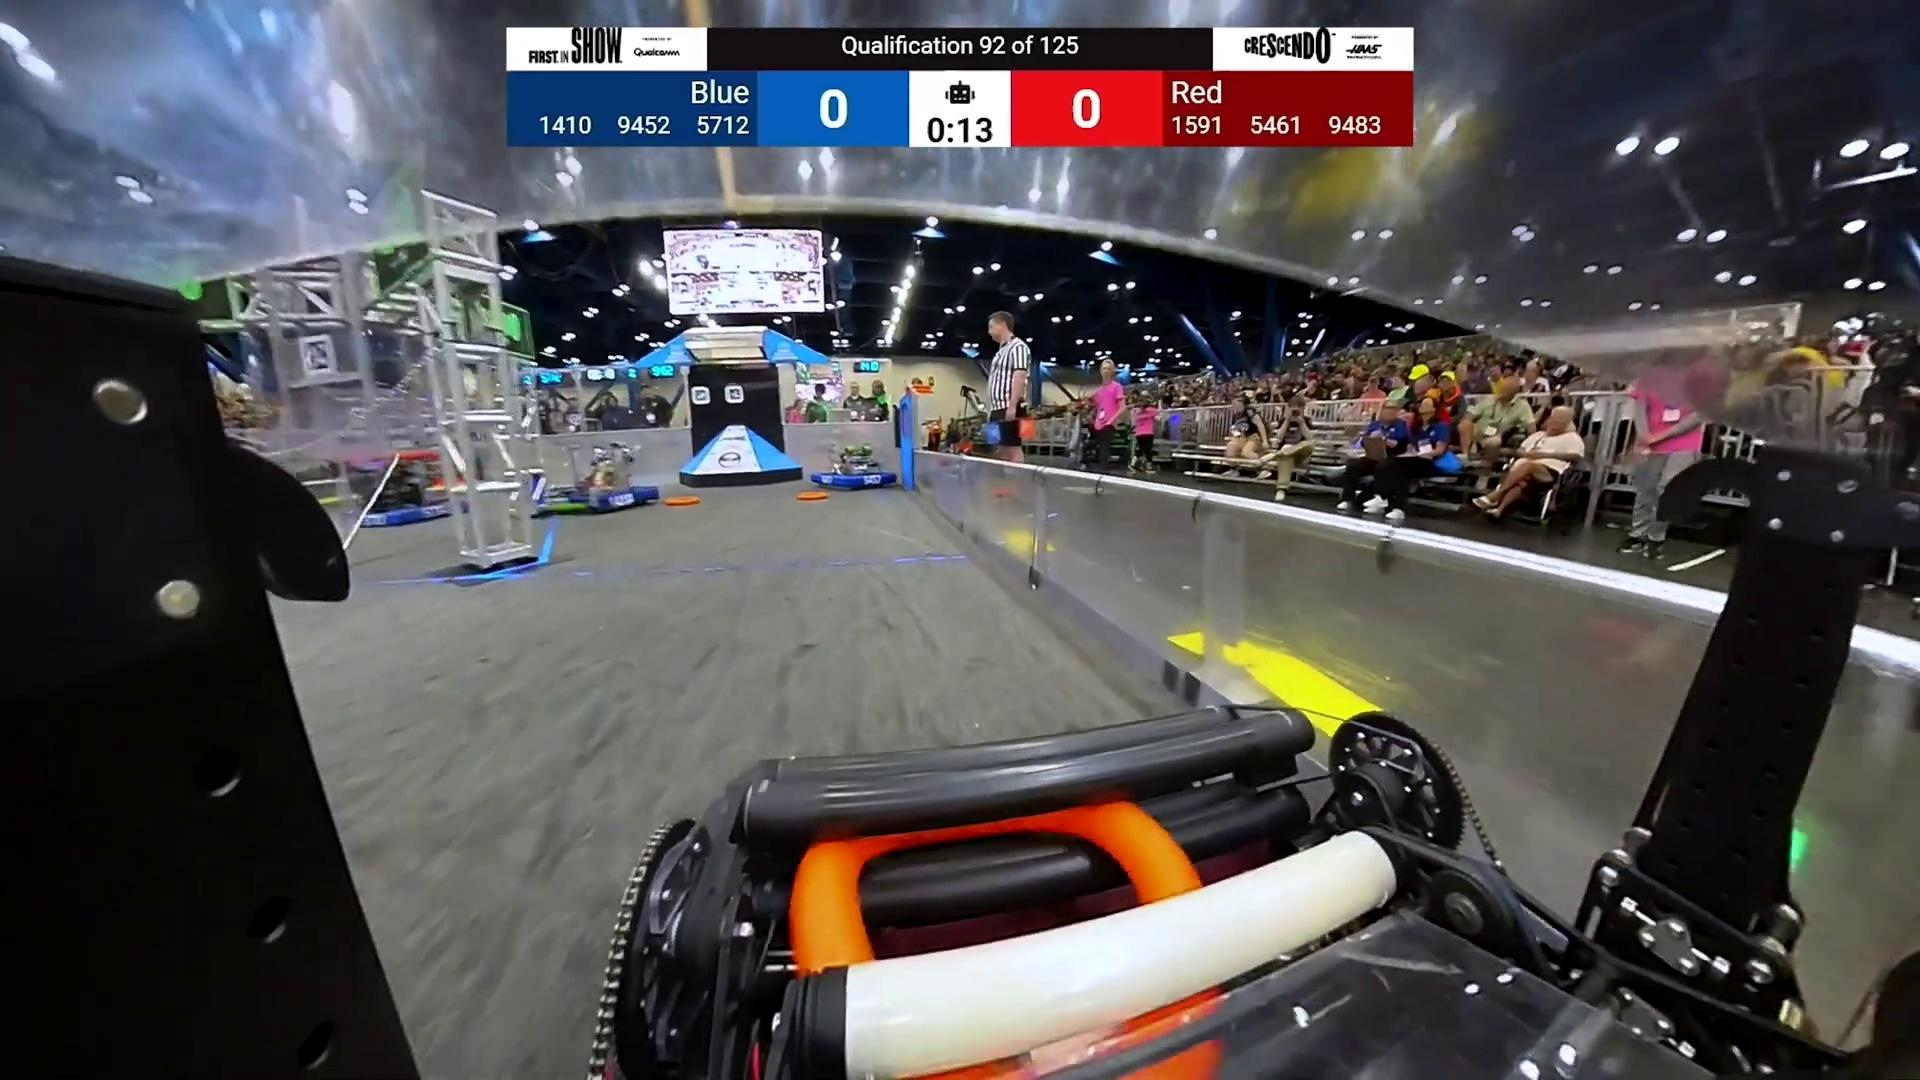robot: (530, 440, 659, 514), (352, 455, 471, 530), (808, 440, 899, 492)
